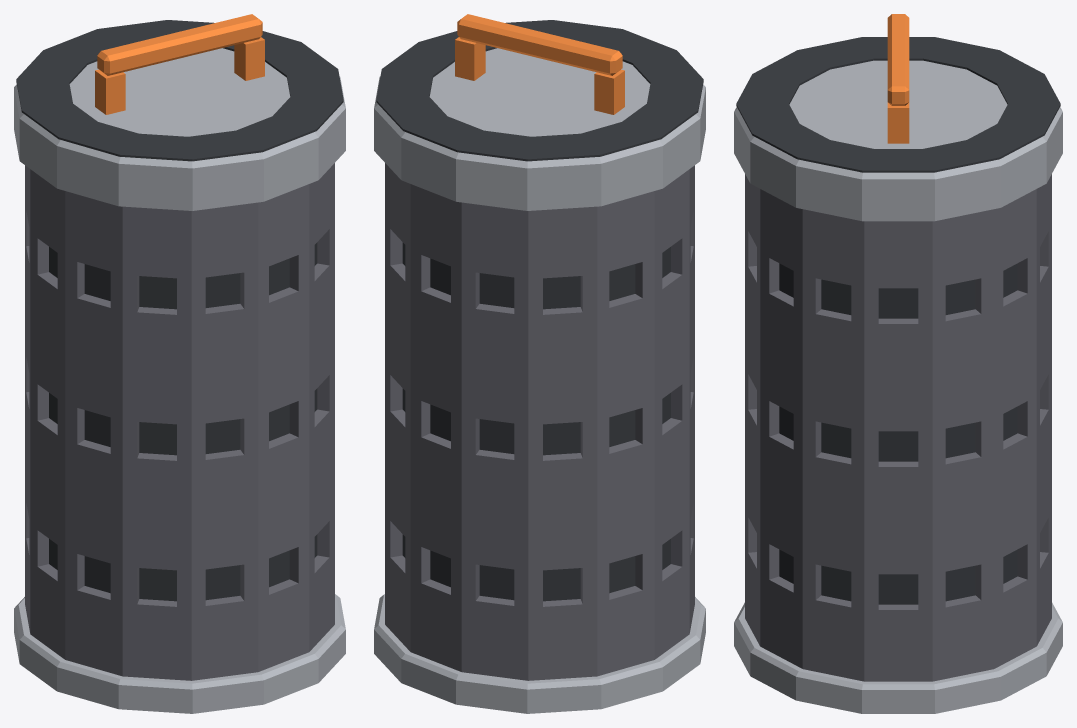
Rendered from scrubber_canister.glb.
3 views of the same model, side by side, from view 1: azimuth 30°, elevation 25°; view 2: azimuth 150°, elevation 25°; view 3: azimuth 270°, elevation 25° (orthographic). The views are drawn at different scales.
Parts seen in each view (by area): view 1: ScrubberCanisterBody; view 2: ScrubberCanisterBody; view 3: ScrubberCanisterBody.
Part boxes in pixels (left/top/right/bottom): ScrubberCanisterBody: left=14, top=14, right=345, bottom=713; ScrubberCanisterBody: left=374, top=14, right=705, bottom=713; ScrubberCanisterBody: left=734, top=14, right=1062, bottom=713.
Size of the model in its own units: 0.1462 by 0.3 by 0.15.
